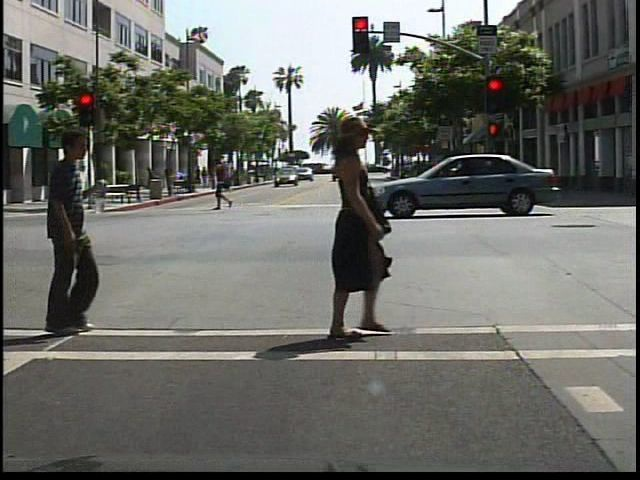person: (290, 124, 412, 346), (27, 129, 111, 338), (210, 155, 237, 212), (144, 164, 165, 200)
